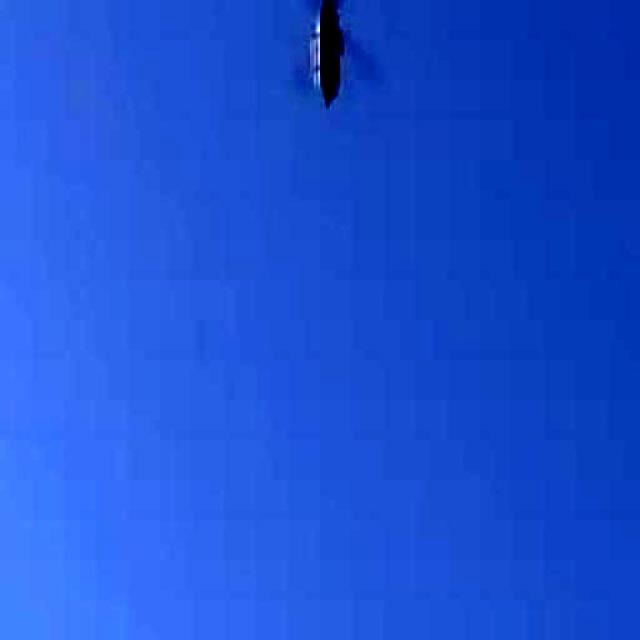drone: (268, 0, 395, 120)
